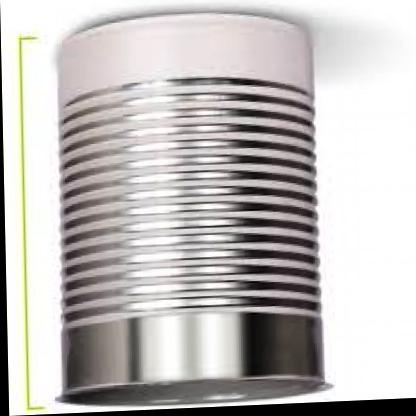trash: (60, 13, 322, 403)
